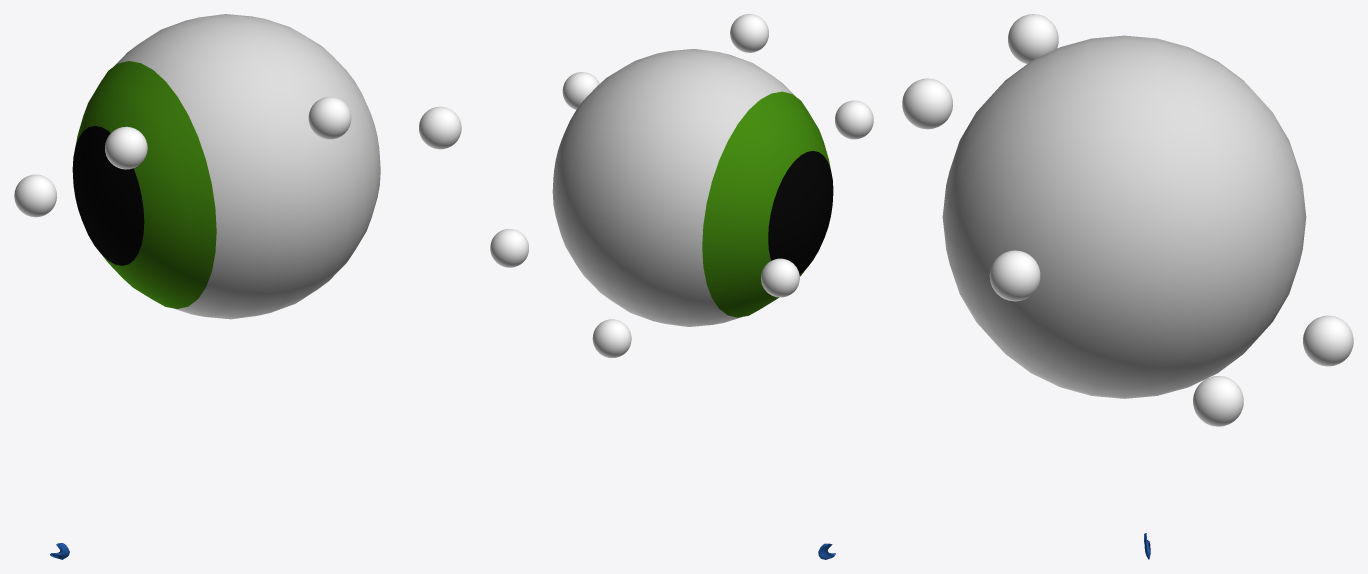
File: Eye_Am_Sad_Kid.obj
3 views of the same model, side by side, from view 1: azimuth 30°, elevation 25°; view 2: azimuth 150°, elevation 25°; view 3: azimuth 270°, elevation 25° (orthographic). The views are drawn at different scales.
Visible parts, largest first — view 1: Sphere004, Sphere006; view 2: Sphere004, Sphere006; view 3: Sphere004, Sphere006.
Part boxes in pixels (x1=…): Sphere004: x1=72, y1=14, x2=380, y2=319; Sphere006: x1=14, y1=96, x2=461, y2=217; Sphere004: x1=552, y1=49, x2=833, y2=326; Sphere006: x1=490, y1=14, x2=873, y2=357; Sphere004: x1=942, y1=35, x2=1306, y2=398; Sphere006: x1=902, y1=14, x2=1353, y2=426.
Bounding box in the file's own units: 80.34 × 109 × 74.78.
